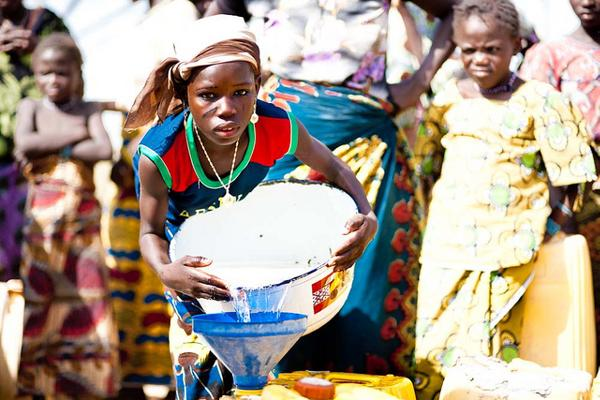person: (137, 15, 378, 400)
